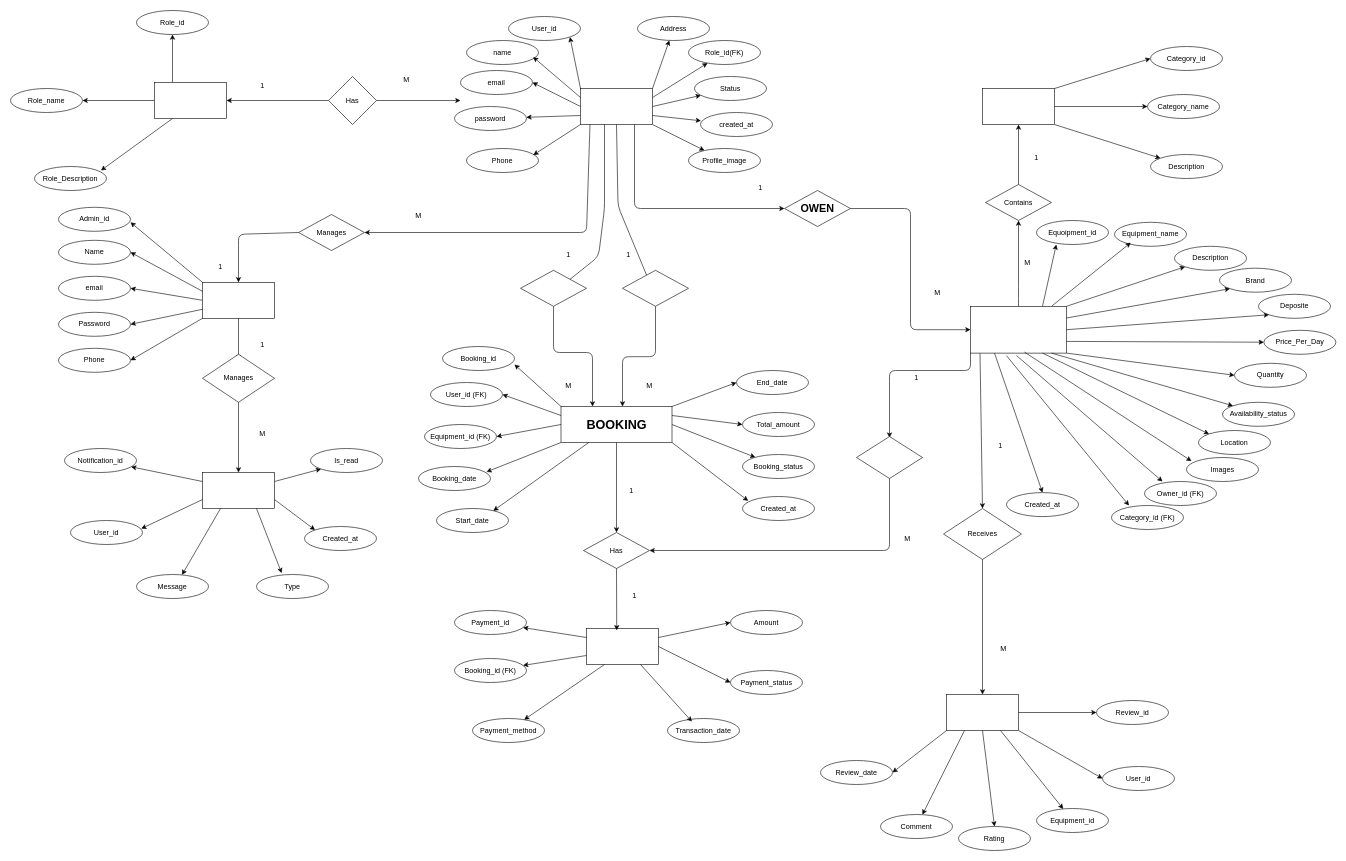
The diagram is 1346 pixels wide and 861 high, and some of its shapes have lost their labels. Here are the shapes that lost their labels. From the top down, the box of each, then its label:
(154, 82, 226, 118): ROLE
(580, 88, 652, 124): USER
(982, 88, 1054, 124): CATEGORY
(202, 282, 274, 318): ADMIN
(520, 270, 586, 306): Make
(622, 270, 688, 306): Recieves
(970, 306, 1066, 353): EQUIPMENT
(856, 436, 922, 478): Is booked
(202, 472, 274, 508): NOTIFICATION
(586, 628, 658, 664): PAYMENT
(946, 694, 1018, 730): REVIEW
